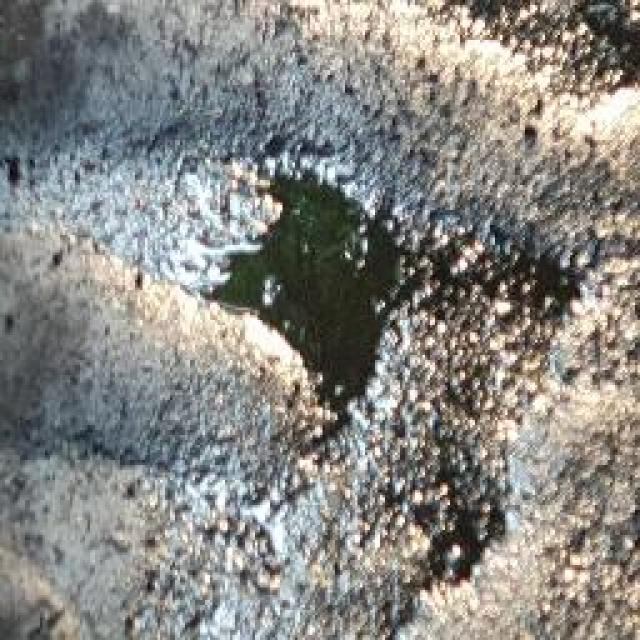stagnation: (191, 148, 595, 434)
